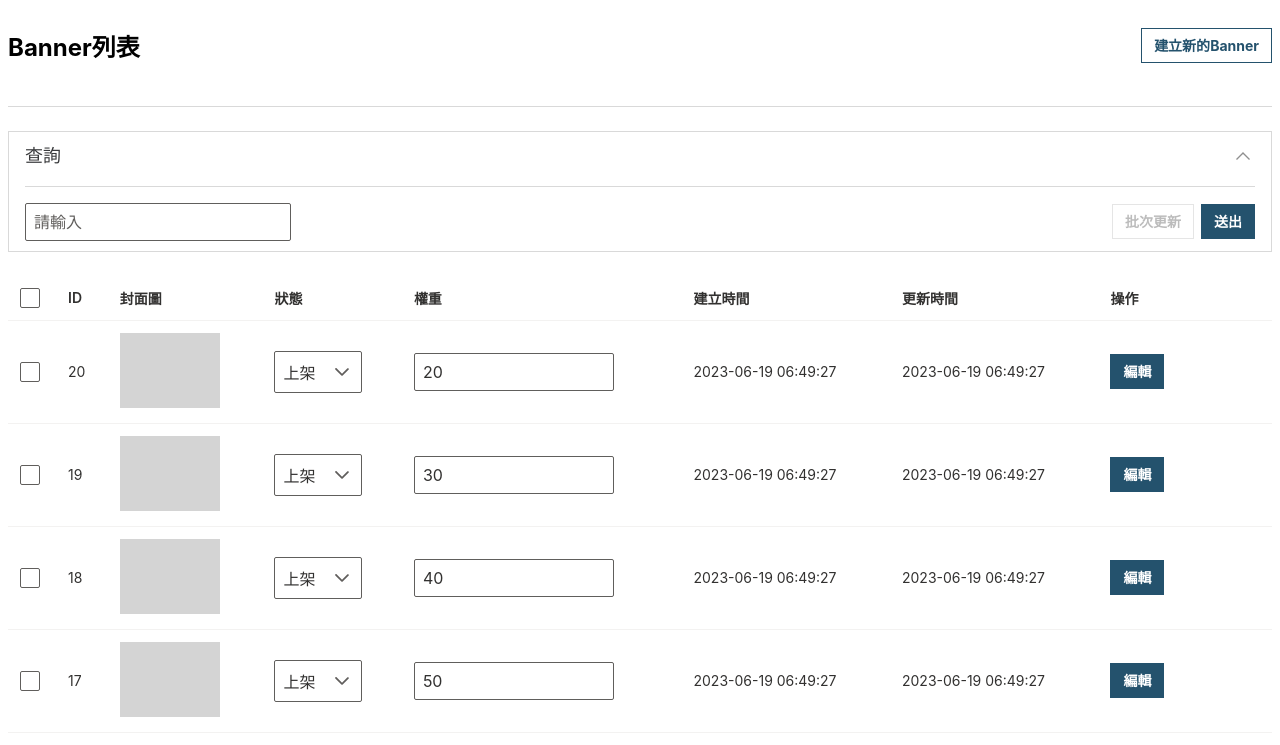
Test: ContentListPage › Banner › update button should be enabled after value changed
Type "24" into the 2nd field at point(514, 372), box x1=414 y1=353 x2=614 y2=391
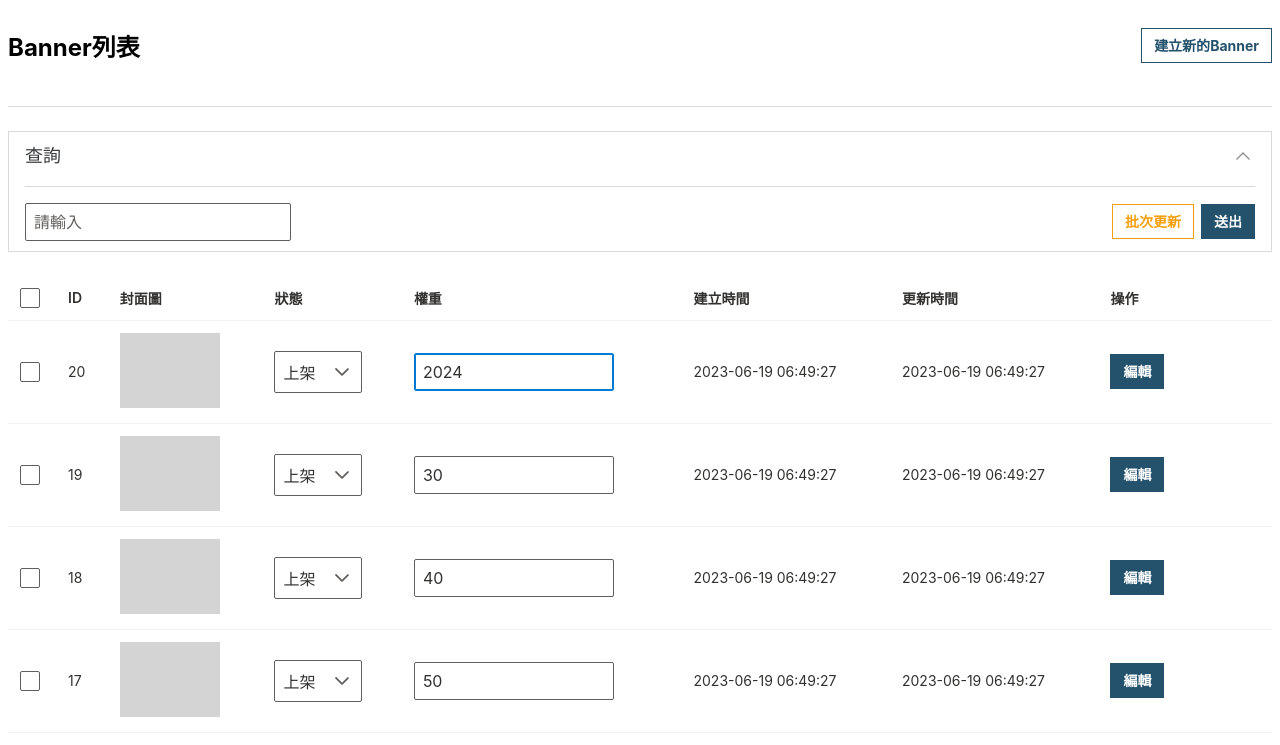
Now the button "批次更新" is enabled, box x1=1112 y1=204 x2=1194 y2=239
